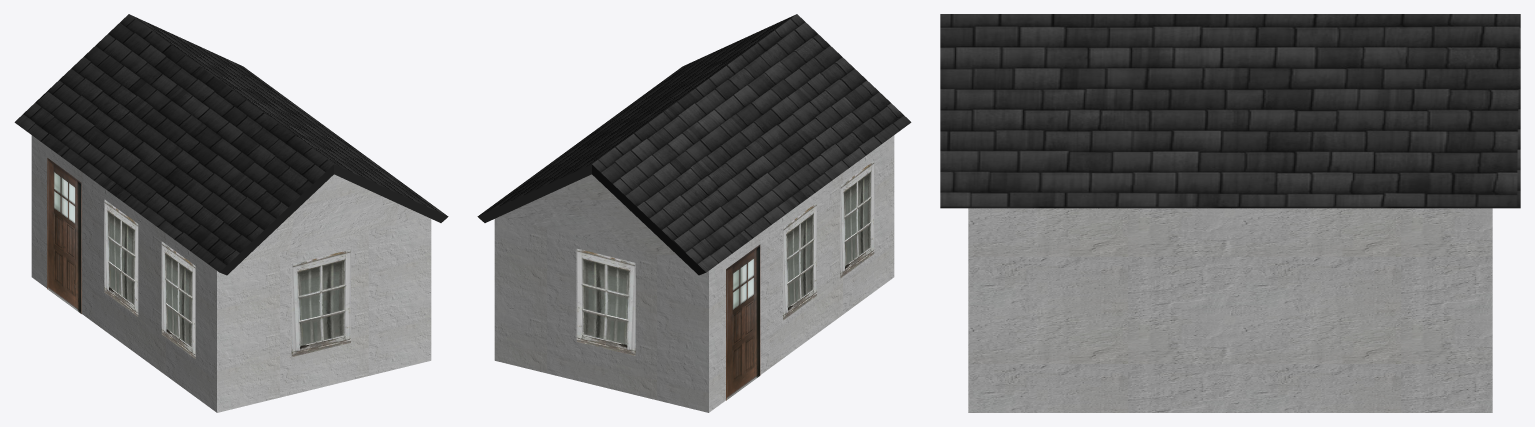
File: 411T_CST_Mahogany-Walnut.fbx
3 views of the same model, side by side, from view 1: azimuth 30°, elevation 25°; view 2: azimuth 150°, elevation 25°; view 3: azimuth 270°, elevation 25° (orthographic). The views are drawn at different scales.
Parts seen in each view (by area): view 1: obj2, obj1, obj6, obj3, obj4, obj5; view 2: obj2, obj1, obj7, obj3, obj5, obj4; view 3: obj2, obj1.
Part boxes in pixels (x1,y1,x2,y2): obj2: (14, 14, 448, 275); obj1: (31, 135, 431, 412); obj6: (291, 249, 350, 356); obj3: (47, 158, 81, 313); obj4: (104, 199, 138, 316); obj5: (161, 241, 195, 358); obj2: (477, 14, 911, 275); obj1: (494, 135, 894, 412); obj7: (576, 248, 635, 355); obj3: (726, 244, 760, 400); obj5: (840, 161, 874, 278); obj4: (783, 203, 816, 320); obj2: (940, 14, 1520, 208); obj1: (968, 208, 1492, 412).
Bounding box in the file's own units: 428 × 410 × 664.
Materials: 7 (7 with a texture image).
